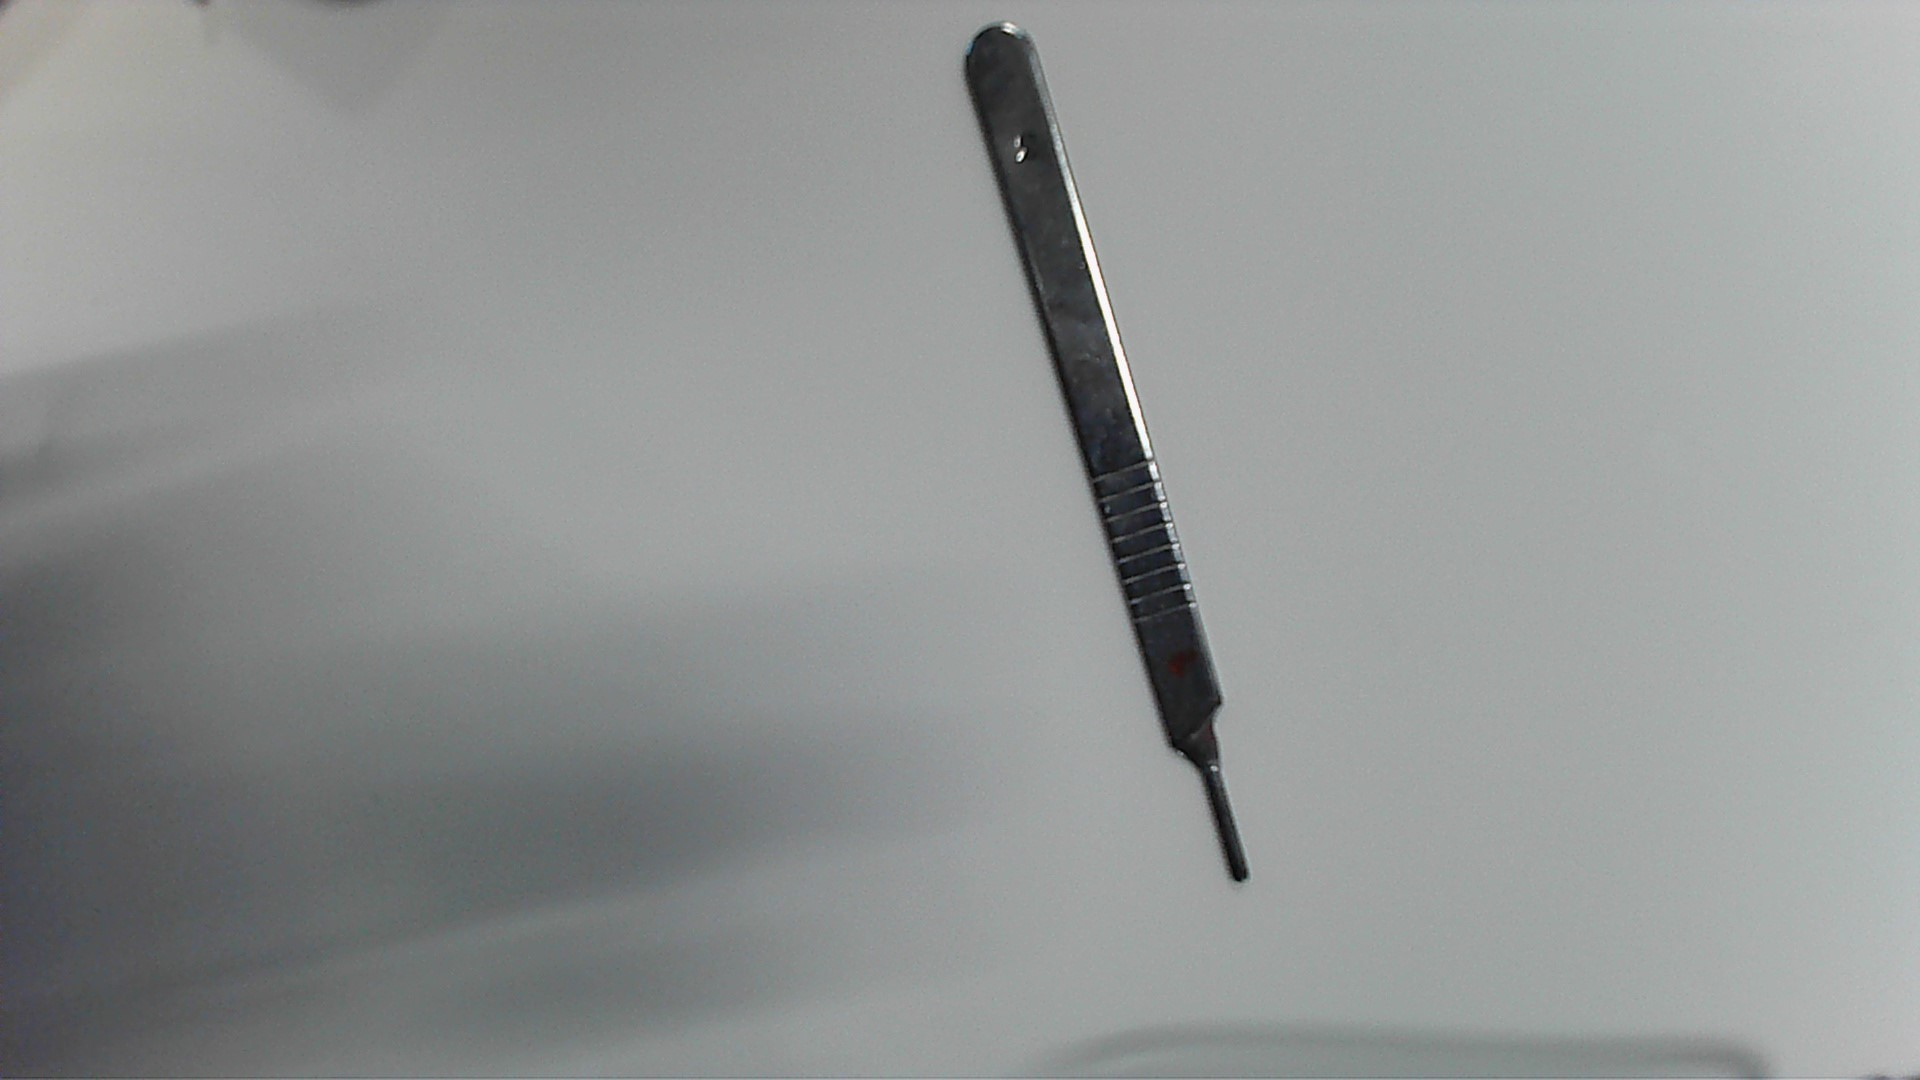Stain: (1156, 640, 1207, 686)
